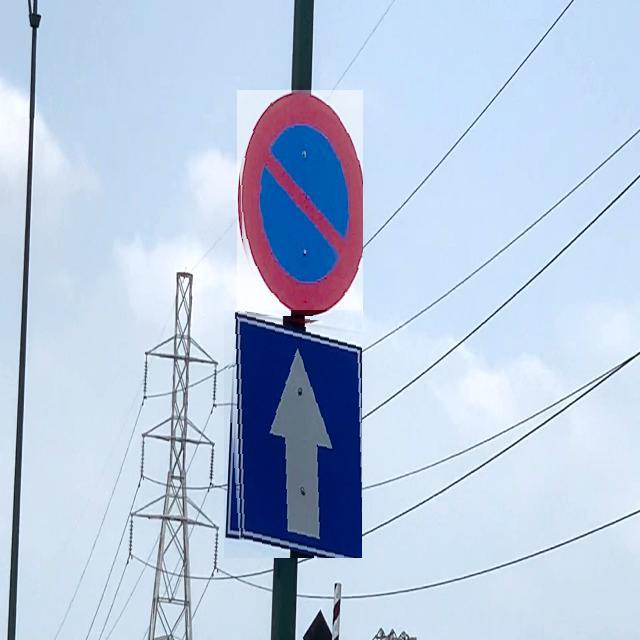P-131a: (237, 90, 363, 316)
R-407a: (224, 310, 362, 558)
